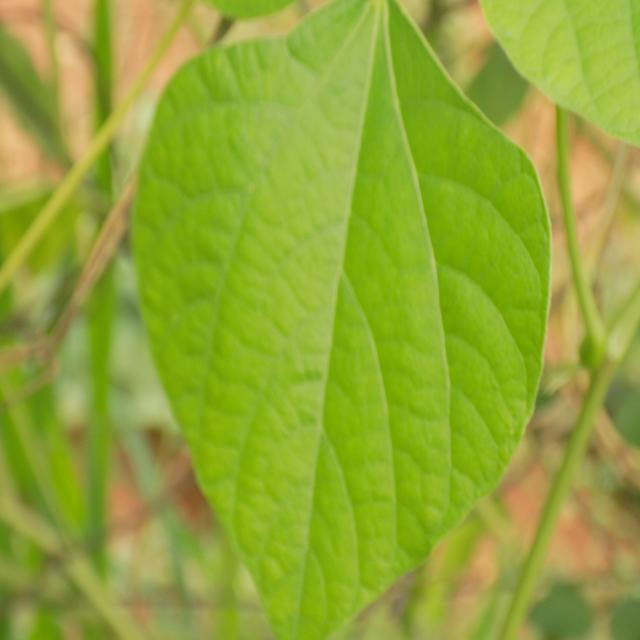Dolicos bean_healthy: (127, 0, 549, 640)
